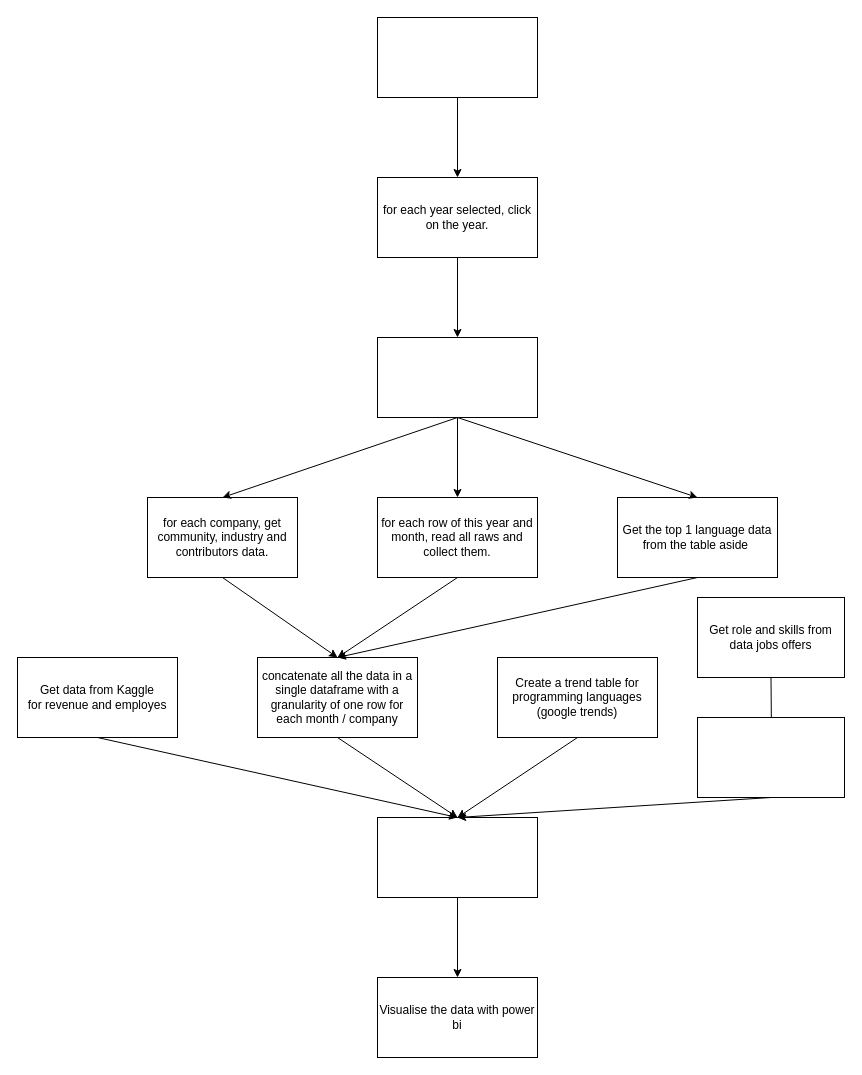
The diagram is 862 pixels wide and 1075 high, and some of its shapes have lost their labels. The shapes that lost their labels are listed below. From the top down, each one's centre as x and y in pixels, then its label:
point (457, 57): get to the web page with Selenium.
point (457, 377): For each month of the year, click on the month.
point (770, 757): Use Fuzzy wuzzy to clean the categories of skills
point (457, 857): Charge the data on power BI make a time table and a shema.
